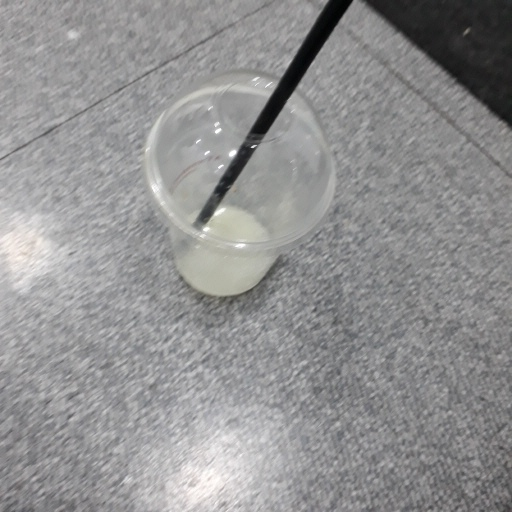Plastic_2: (148, 2, 356, 299)
